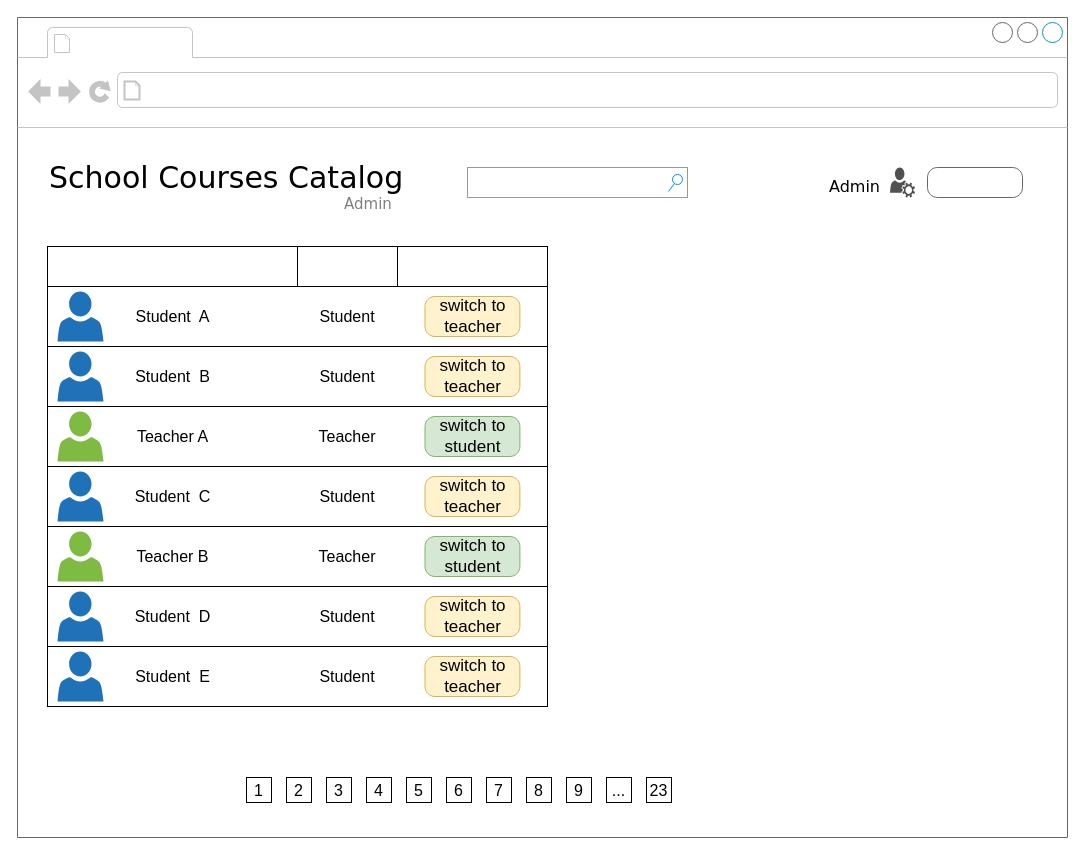
Some shapes in this 1085 by 855 pixel diagram are drawn without their labels. The shapes that lost their labels are listed below. From the top down, each one's centre as x and y in pixels, then its label:
point (132, 42): Page 1
point (272, 90): https://www.default.com
point (577, 182): Search the course
point (974, 182): Log out
point (172, 266): User Account
point (347, 266): Identity
point (472, 266): operation
